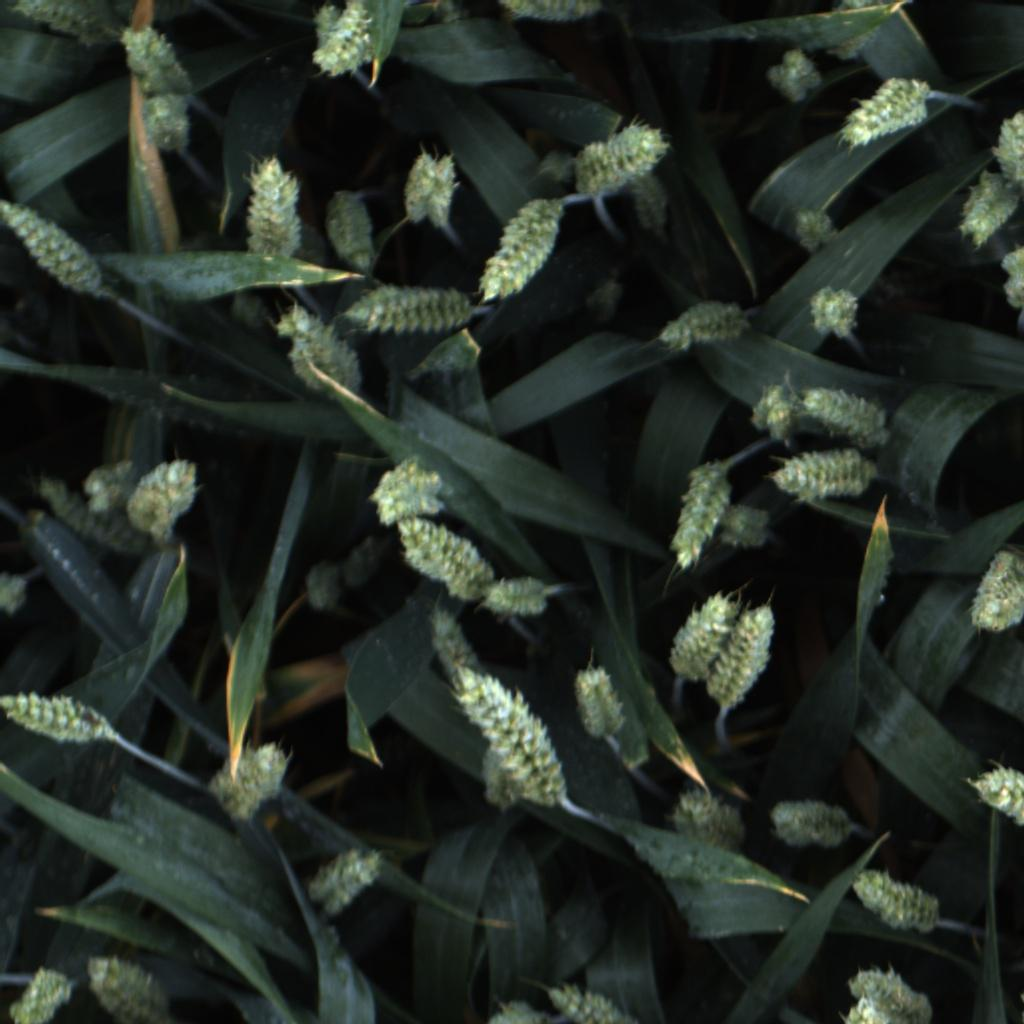0-0: (452, 665, 571, 811), (1, 194, 105, 296), (474, 193, 564, 306), (389, 511, 491, 602), (31, 478, 147, 556), (702, 604, 782, 714), (664, 459, 733, 575), (239, 153, 309, 265), (568, 119, 671, 195), (273, 301, 358, 392), (207, 737, 296, 823), (839, 72, 931, 153), (346, 280, 471, 339), (79, 949, 177, 1024), (2, 685, 117, 746), (361, 455, 453, 529), (766, 443, 875, 505), (113, 26, 196, 106), (128, 456, 203, 544), (666, 592, 736, 684), (959, 544, 1024, 642), (663, 775, 748, 849), (306, 837, 385, 916), (846, 868, 943, 932), (655, 292, 753, 355), (8, 0, 112, 56), (398, 141, 463, 230), (800, 384, 898, 442), (419, 602, 480, 693), (952, 170, 1022, 247), (848, 963, 936, 1024), (546, 977, 657, 1024), (311, 1, 376, 80), (772, 793, 854, 854), (967, 758, 1024, 844), (322, 186, 377, 274), (575, 663, 631, 745), (4, 962, 74, 1024), (760, 41, 827, 104), (828, 0, 889, 62), (473, 743, 524, 816), (78, 456, 141, 515), (802, 283, 869, 338), (745, 376, 799, 442), (993, 102, 1024, 214), (478, 573, 549, 619), (139, 93, 191, 155), (715, 500, 779, 549), (781, 202, 842, 252), (496, 0, 601, 26), (298, 560, 347, 615), (996, 239, 1024, 328), (466, 996, 553, 1024), (632, 171, 669, 235), (835, 994, 906, 1024), (583, 270, 623, 321), (534, 144, 579, 184), (309, 2, 343, 52), (0, 572, 31, 617), (429, 0, 468, 24)
